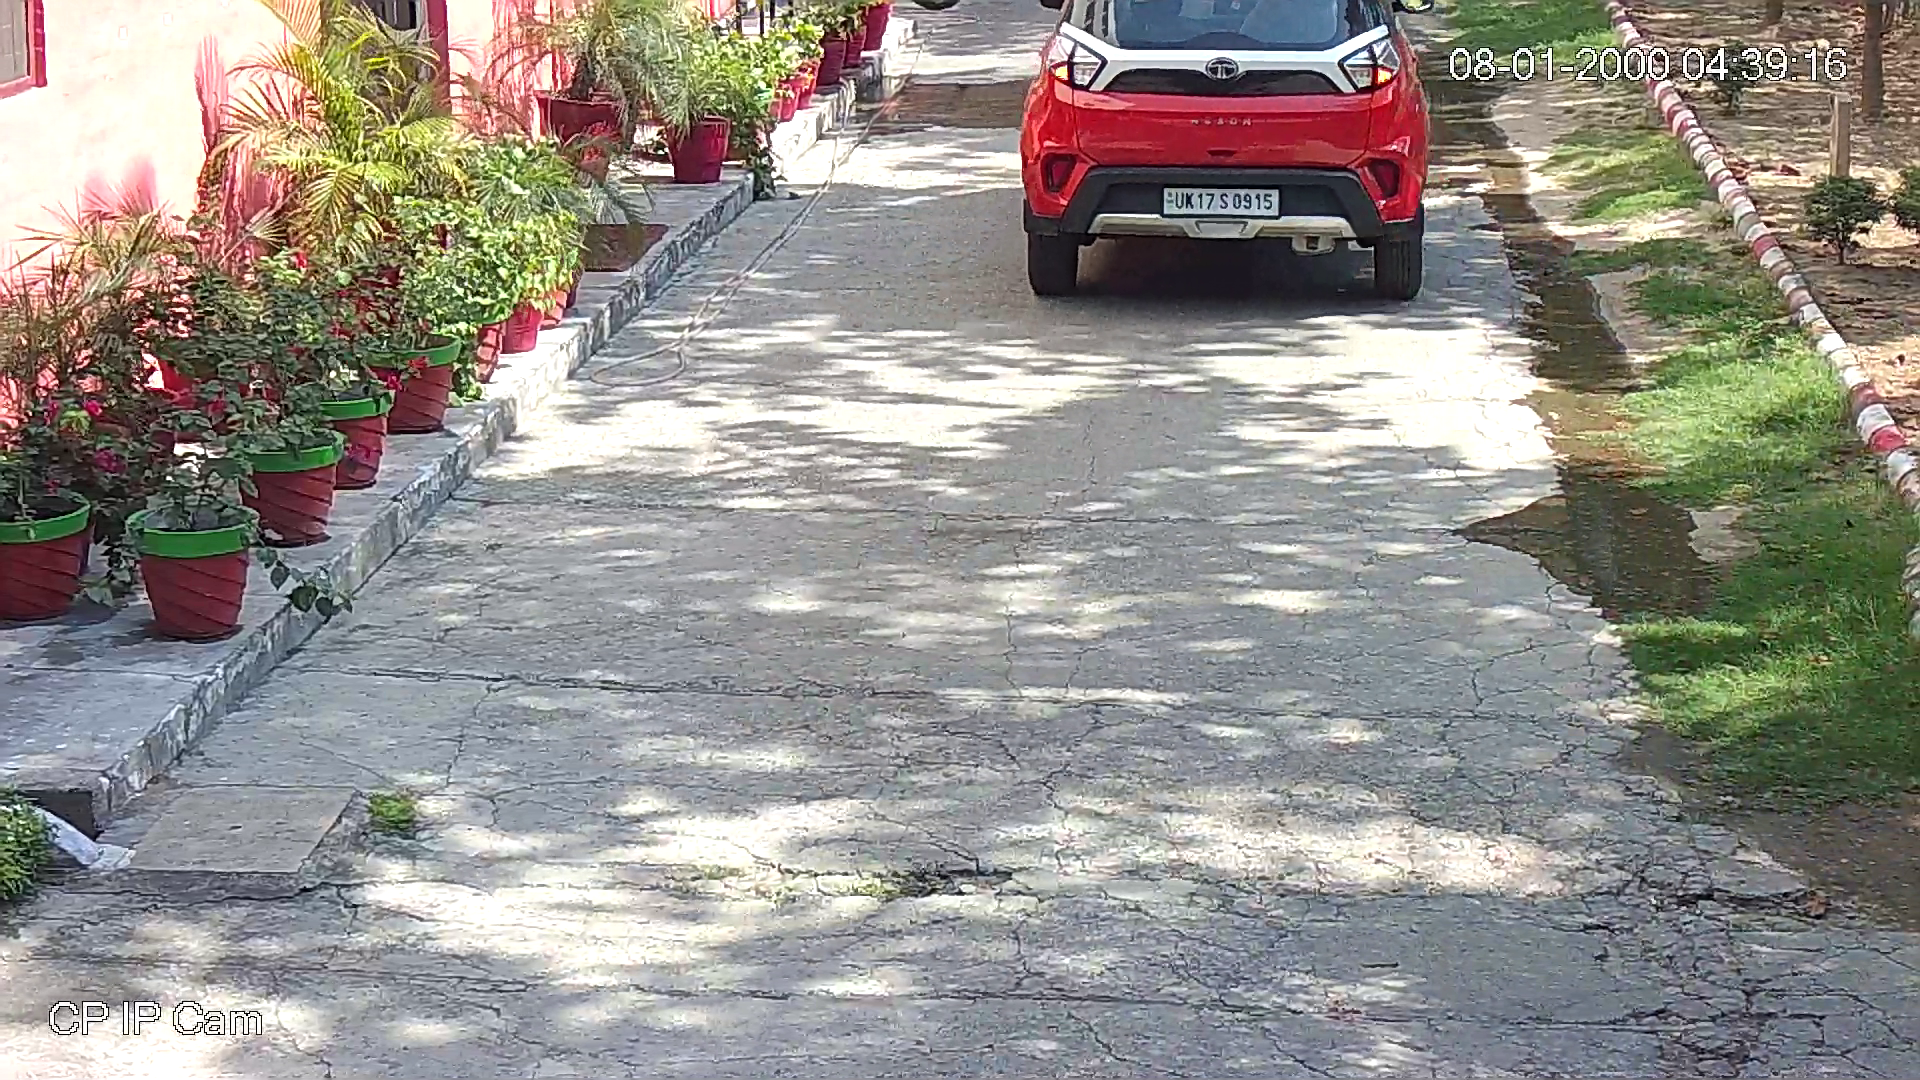plate: (1158, 181, 1289, 221)
